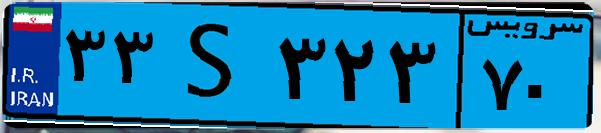0: (525, 38, 570, 115)
2: (330, 28, 385, 110)
3: (270, 28, 330, 110), (385, 28, 445, 110), (57, 26, 110, 100), (110, 28, 158, 98)
7: (475, 38, 525, 113)
S: (158, 12, 270, 120)
